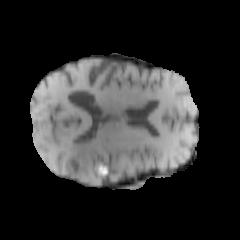glioma: (43, 136, 134, 182)
